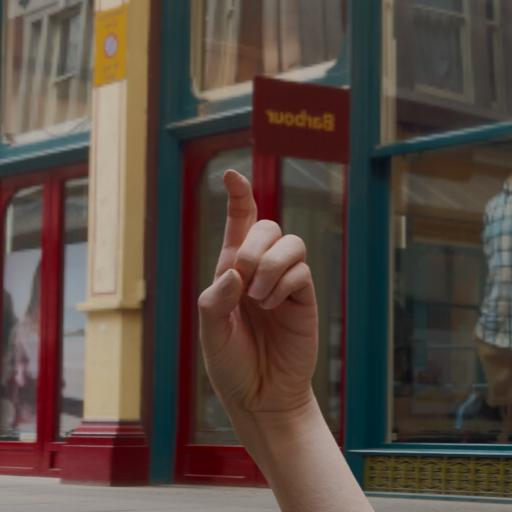X: (185, 156, 332, 438)
